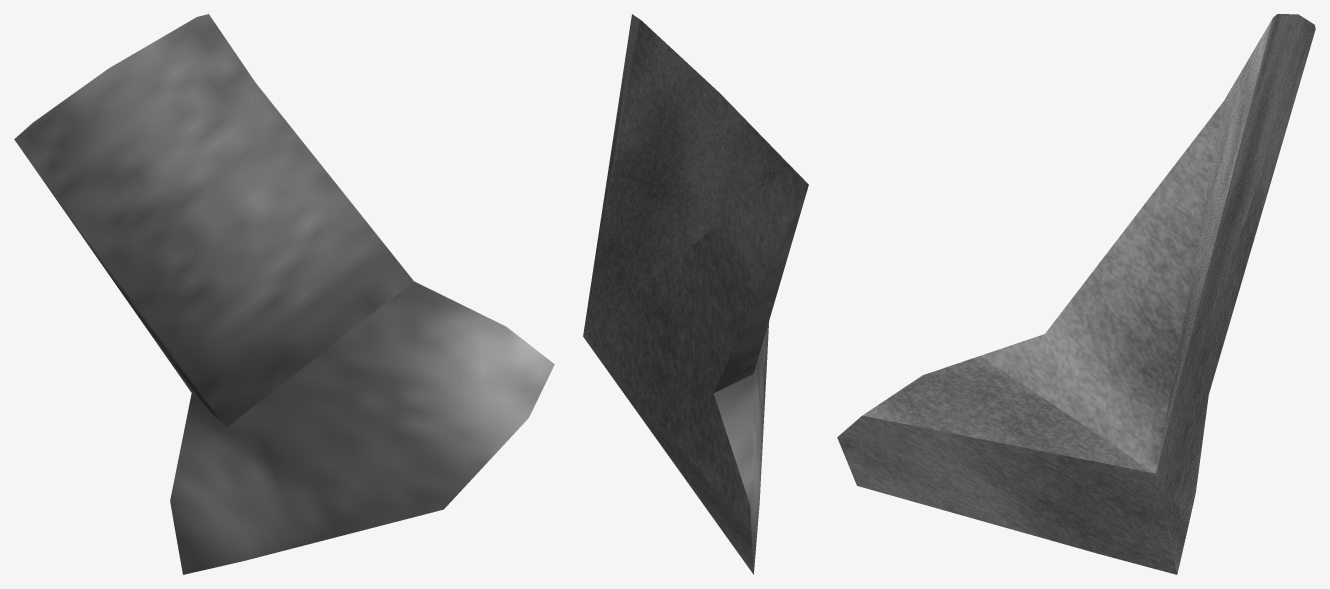
Rendered from body_cell_003.fbx.
The picture shows the model from 3 angles, left to right: view 1: azimuth 30°, elevation 25°; view 2: azimuth 150°, elevation 25°; view 3: azimuth 270°, elevation 25°; orthographic projection. The views are drawn at different scales.
Visible parts, largest first — view 1: body_cell.003; view 2: body_cell.003; view 3: body_cell.003.
Boxes of the visible parts, left/top/right/bottom form: body_cell.003: left=14, top=14, right=554, bottom=574; body_cell.003: left=583, top=14, right=808, bottom=574; body_cell.003: left=837, top=14, right=1315, bottom=574.
Size of the model in its own units: 18.65 by 26.58 by 19.36.
